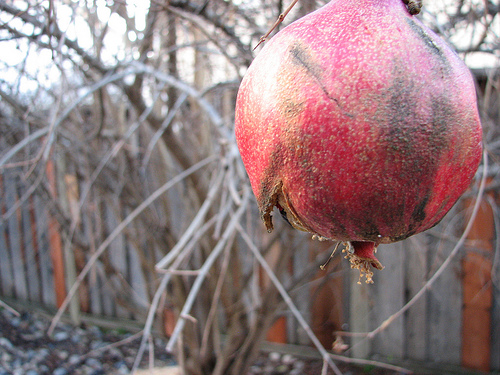pomogranate: (231, 0, 480, 272)
